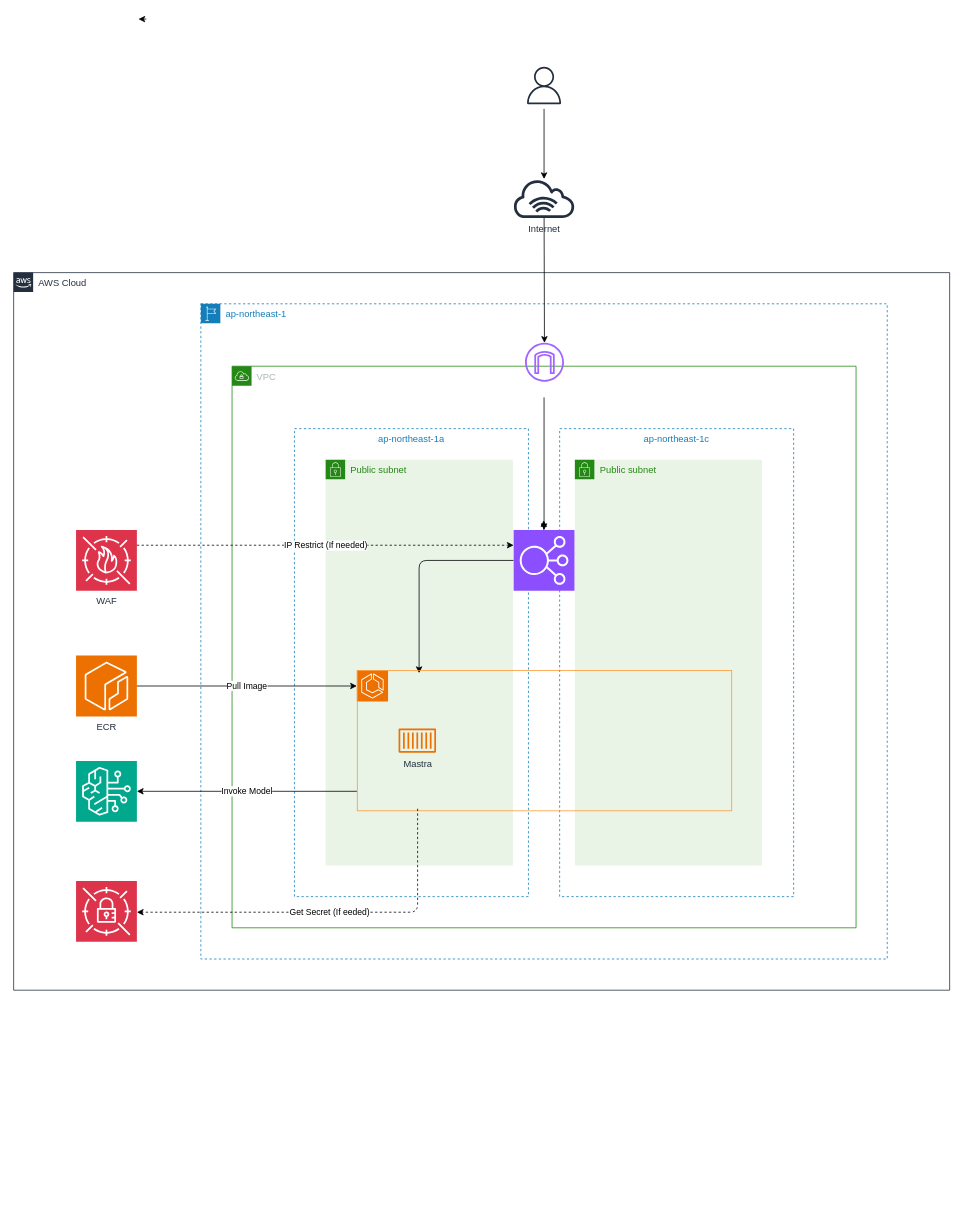
Image size: 963x1229. Some labels were removed from this diagram. The centre of each missing label's shape, as x and y in pixels:
ALB: the point at 543,560
Bedrock: the point at 106,791
ECS Fargate: the point at 372,686
Internet Gateway: the point at 544,361
Secrets Manager: the point at 106,911
User: the point at 543,85
